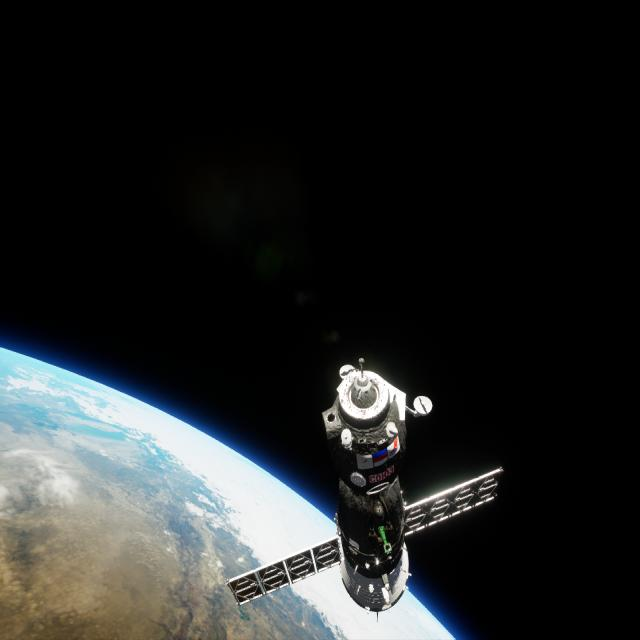Satellites revolving around earth: (224, 353, 504, 619)
